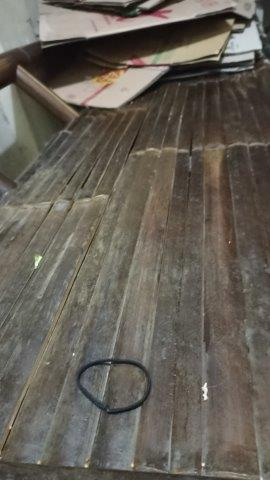kardus: (39, 1, 262, 105)
karet: (76, 358, 152, 414)
